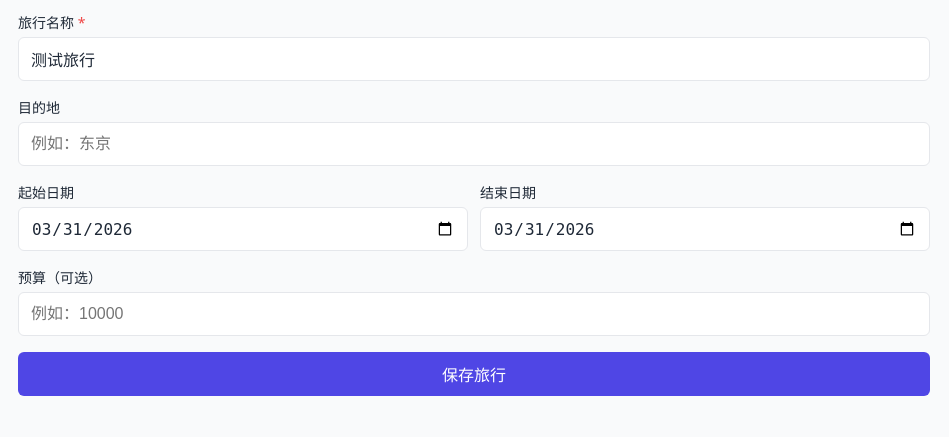
Test: TripForm › 预算为非正数时显示验证错误
Type "-100" into the number field labelled "预算（可选）".
click(474, 314); type("-100")  # box [18,292,930,336]
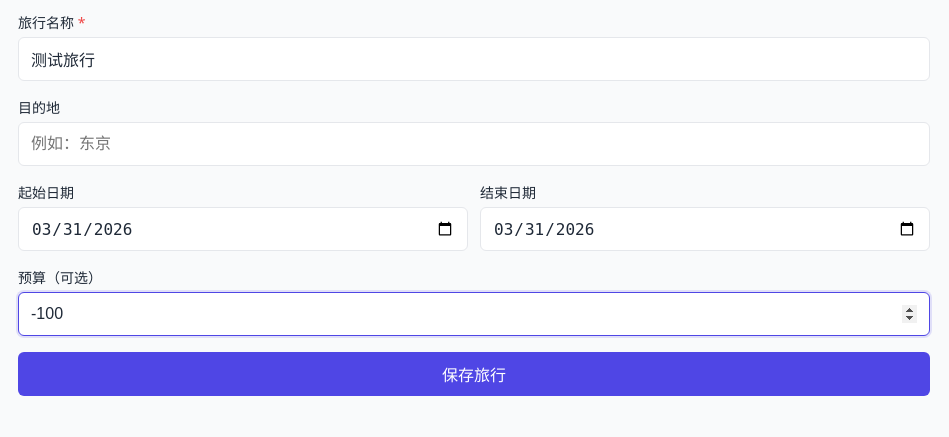
Click the button "保存旅行".
click(474, 374)  # box [18,352,930,396]
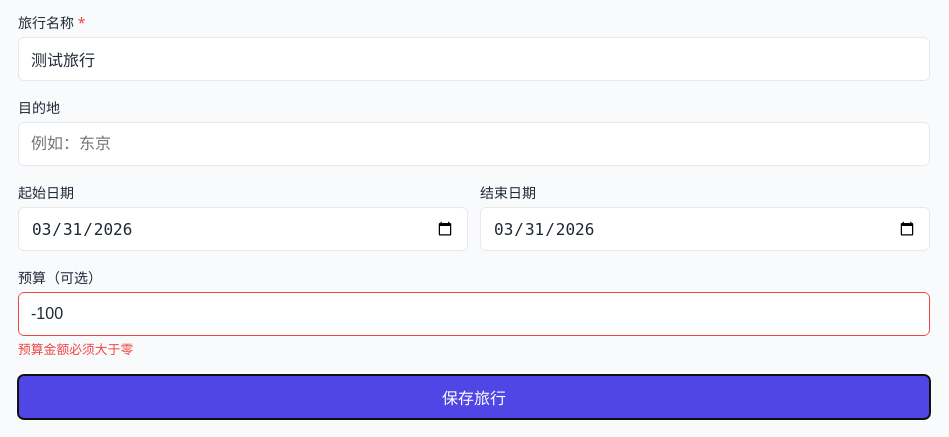
Expected: the text "预算金额必须大于零" is shown, [18,340,133,358]
